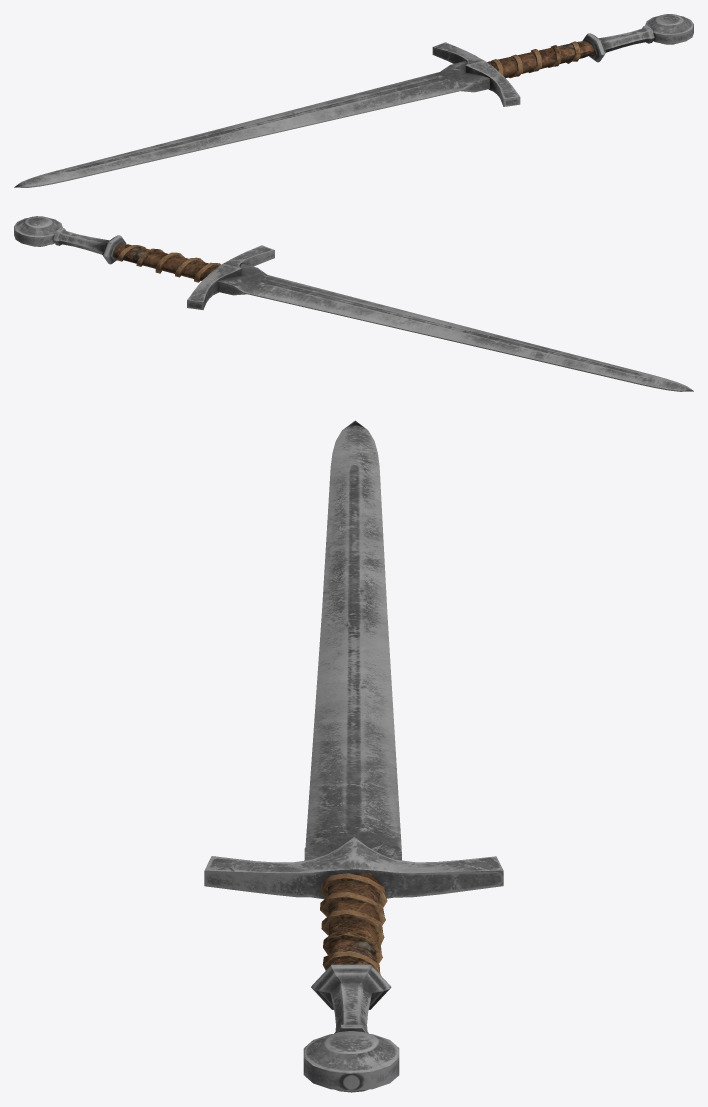
The model's file is EnemySword.glb.
3 views of the same model, one above another, from view 1: azimuth 30°, elevation 25°; view 2: azimuth 150°, elevation 25°; view 3: azimuth 270°, elevation 25° (orthographic). The views are drawn at different scales.
Parts seen in each view (by area): view 1: Low; view 2: Low; view 3: Low.
Boxes of the visible parts, x1,y1,x2,y2 form: Low: (14, 14, 693, 187); Low: (14, 216, 693, 391); Low: (204, 420, 503, 1092).
Bounding box in the file's own units: 2 × 0.0705 × 0.3832.
Materials: 1 (1 with a texture image).
